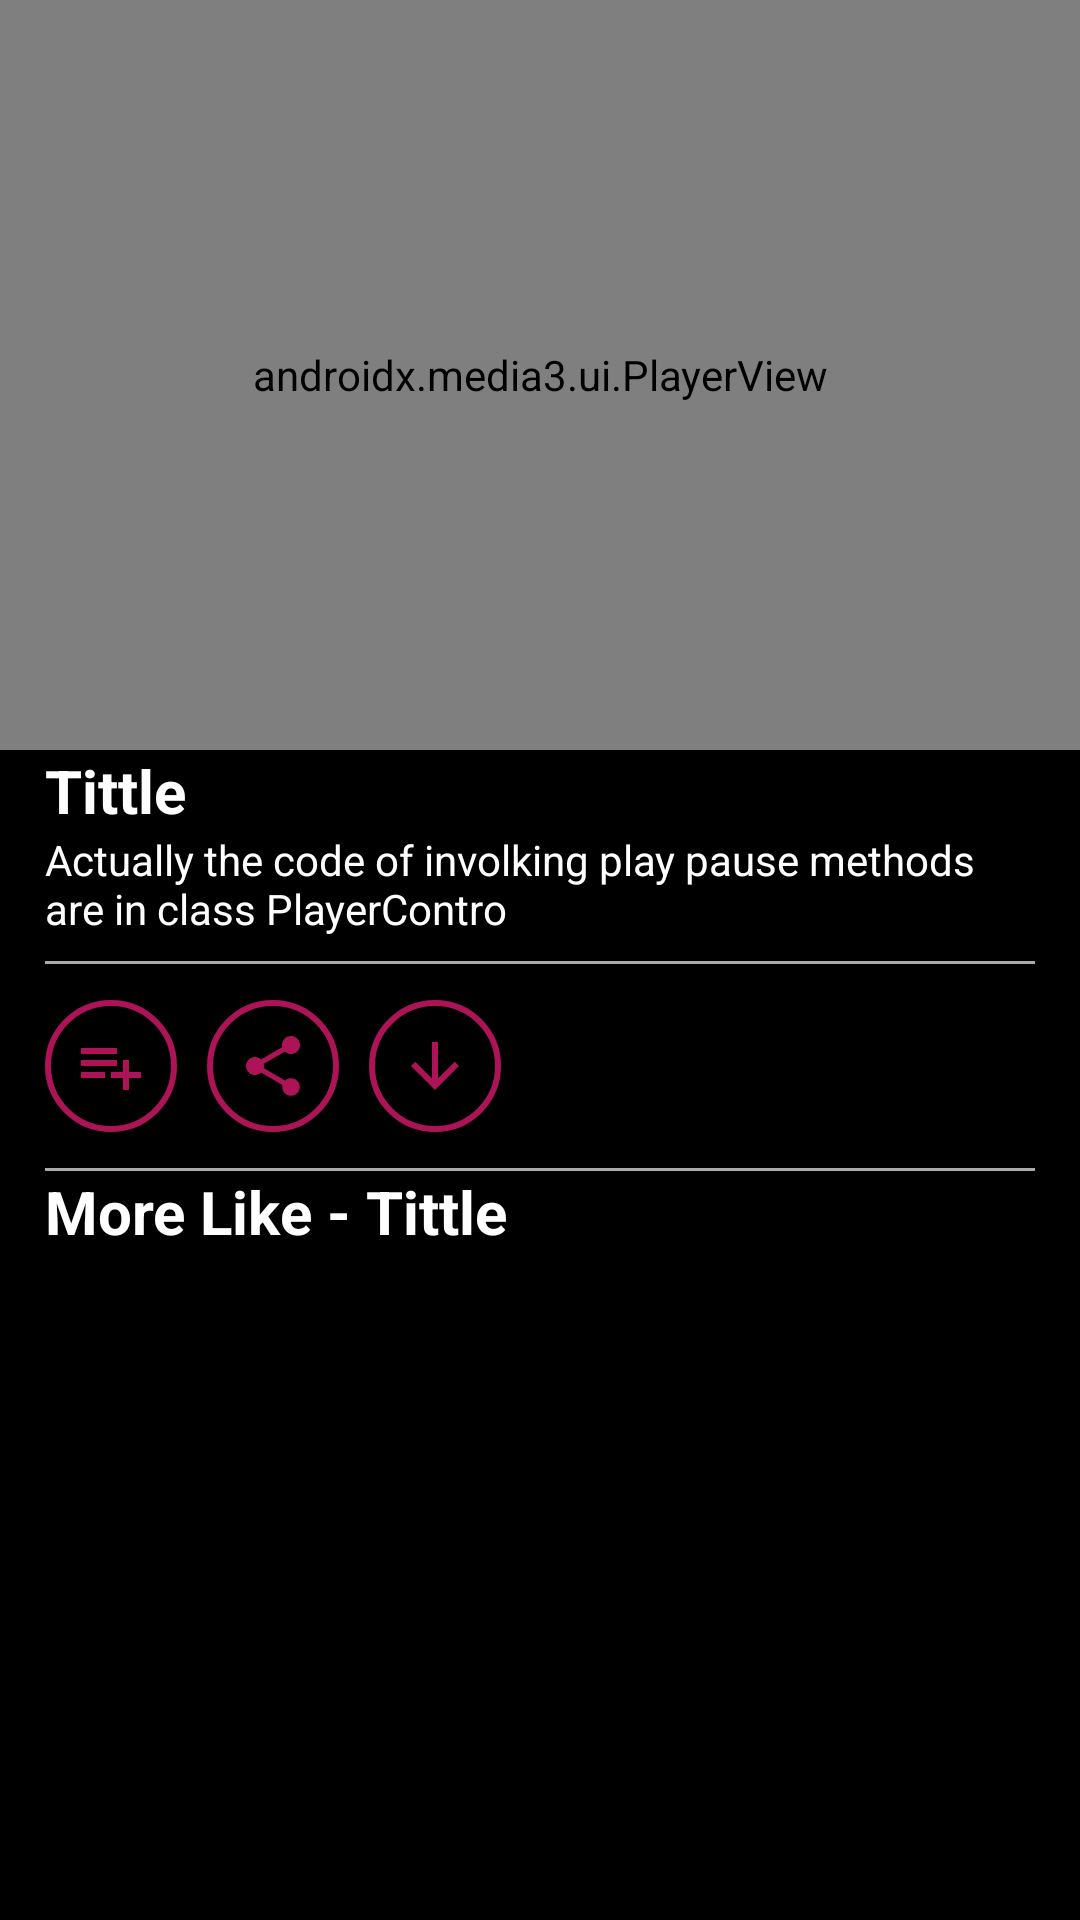

Icon bounding boxes for this 1080 x 1920 phone screenshot, format (x1, y1, x2, y2):
download: (369, 1000, 501, 1132)
playlist: (45, 1000, 177, 1132)
share: (207, 1000, 339, 1132)
